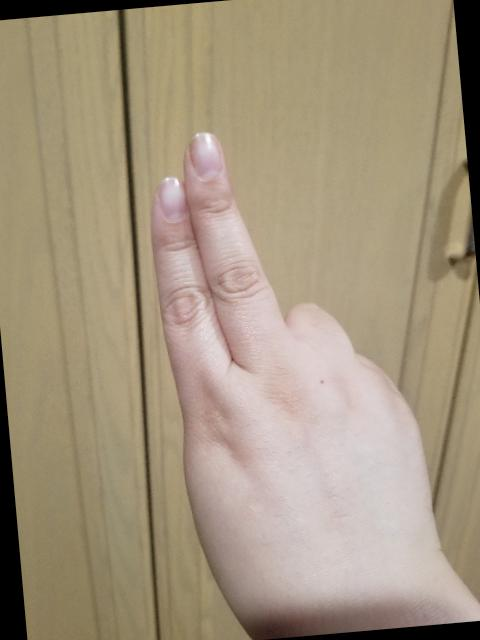U: (135, 106, 460, 640)
